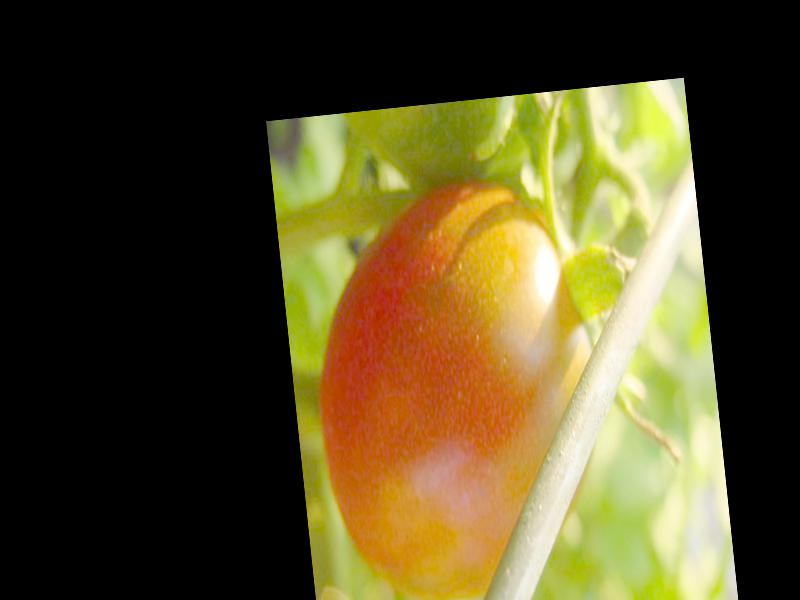Tomato: (298, 176, 614, 600)
